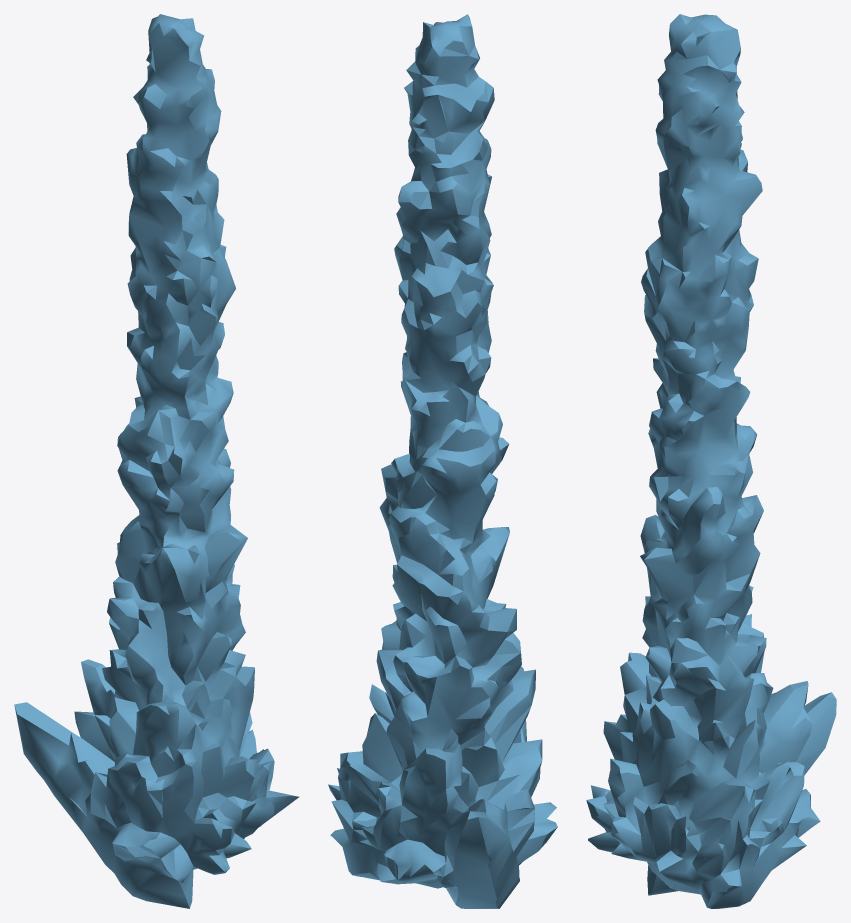
Rendered from hvs_crystal_medium01.fbx.
The picture shows the model from 3 angles, left to right: view 1: azimuth 30°, elevation 25°; view 2: azimuth 150°, elevation 25°; view 3: azimuth 270°, elevation 25°; orthographic projection. The views are drawn at different scales.
Visible parts, largest first — view 1: hvs_crystal_medium01_lod0; view 2: hvs_crystal_medium01_lod0; view 3: hvs_crystal_medium01_lod0.
Boxes of the visible parts, box(x1,y1,x2,y2) form: hvs_crystal_medium01_lod0: box(14, 14, 299, 908); hvs_crystal_medium01_lod0: box(328, 14, 557, 908); hvs_crystal_medium01_lod0: box(586, 14, 836, 908).
Bounding box in the file's own units: 7.29 × 29.67 × 7.63.
